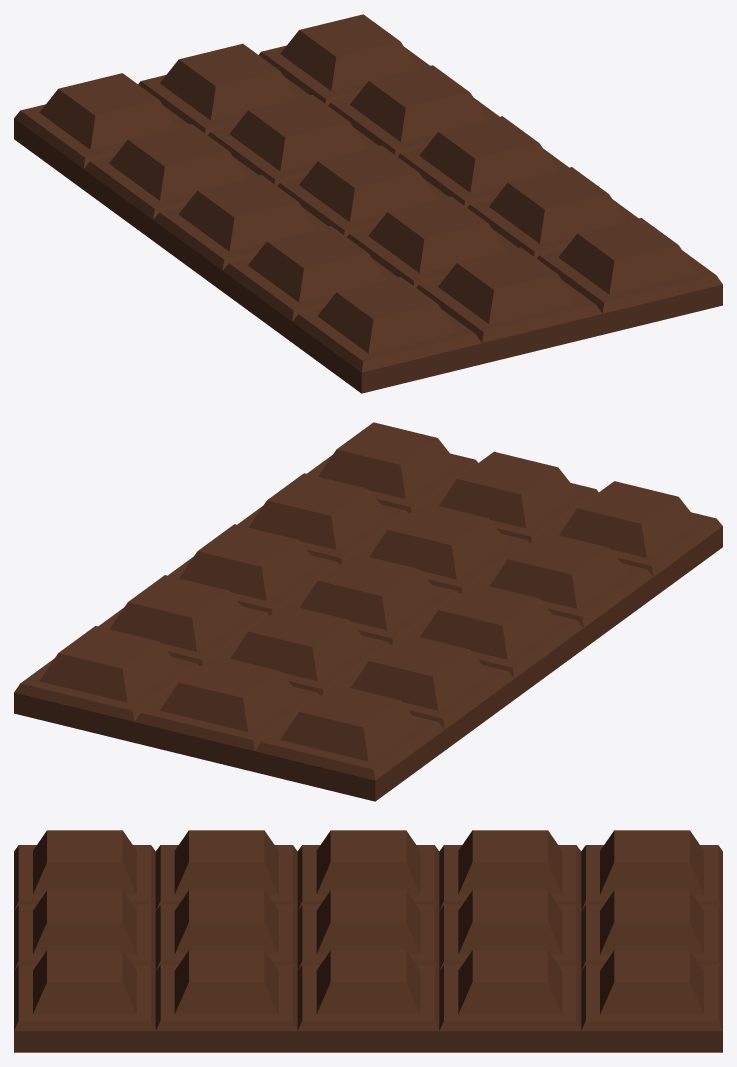
3 views of the same model, one above another, from view 1: azimuth 30°, elevation 25°; view 2: azimuth 150°, elevation 25°; view 3: azimuth 270°, elevation 25° (orthographic).
Visible parts, largest first — view 1: slab; view 2: slab; view 3: slab.
Boxes of the visible parts, x1,y1,x2,y2 form: slab: (14, 14, 722, 393); slab: (14, 422, 722, 801); slab: (14, 830, 722, 1052).
Bounding box in the file's own units: 0.09 × 0.0132 × 0.15.
